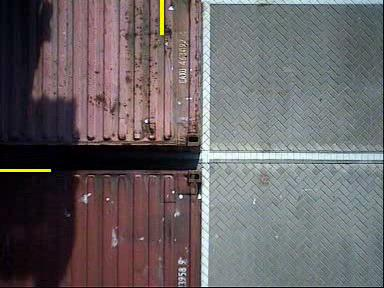groundmarker_2: (162, 47, 252, 99)
